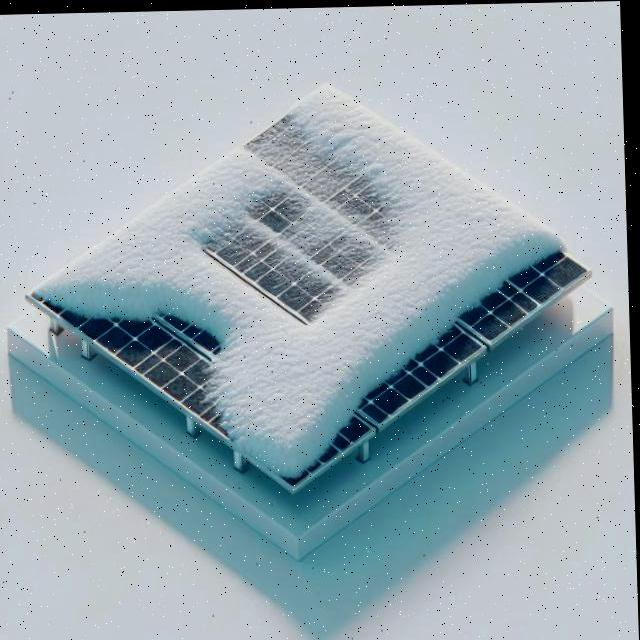Anomaly Solar Panel: (38, 18, 593, 538)
Snow: (39, 7, 567, 525)
